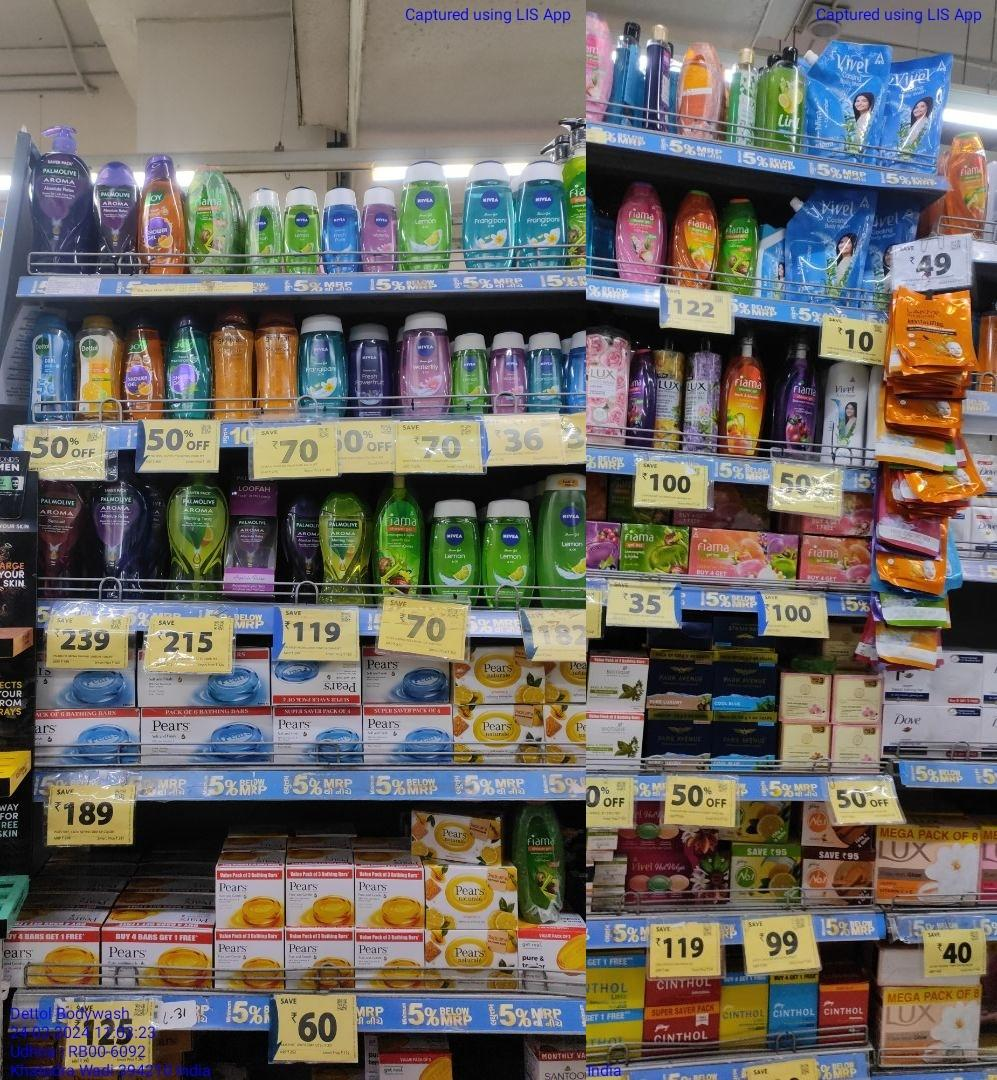Dettol_Bodywash_Cool: (27, 316, 74, 424)
Dettol_Bodywash_Refresh: (79, 317, 123, 420)
Fiama_Shower_Gel_Lemongrass_and_Jojoba_250ML: (188, 165, 233, 274), (721, 196, 758, 298)
Fiama_Shower_Gel_Patchouli_and_Macadamia_250ML: (614, 179, 666, 283)
Fiama_Shower_Gel_Peach_and_Avocado_250ML: (671, 187, 718, 288)
Get_Real_Shower_Gel_Moisturising_Glycerin_300ML: (212, 306, 254, 418), (257, 307, 298, 418)
Joy_Shower_Gel_Mandarin_and_Lemongrass_250ML: (141, 156, 186, 274), (127, 310, 168, 420)
Joy_Shower_Gel_Mint_and_Eucalyptus_250ML: (172, 312, 211, 418)
Nivea_Shower_Gel_Frangipani_and_Oil_250ML: (517, 161, 569, 269), (462, 164, 513, 269), (300, 316, 347, 417), (530, 334, 562, 413)
Nivea_Shower_Gel_Fresh_Powerfruit_250ML: (349, 325, 393, 416)
Nivea_Shower_Gel_Lemon_and_Oil_250ML: (539, 474, 590, 608), (400, 163, 452, 272), (483, 501, 534, 605), (429, 501, 479, 598), (242, 191, 282, 273), (451, 332, 489, 413), (286, 191, 320, 274)
Nivea_Shower_Gel_Waterlily_and_Oil_250ML: (401, 313, 451, 416), (492, 333, 528, 413), (363, 189, 397, 270)
Palmolive_Aroma_Relax_250ML: (92, 161, 138, 272)
